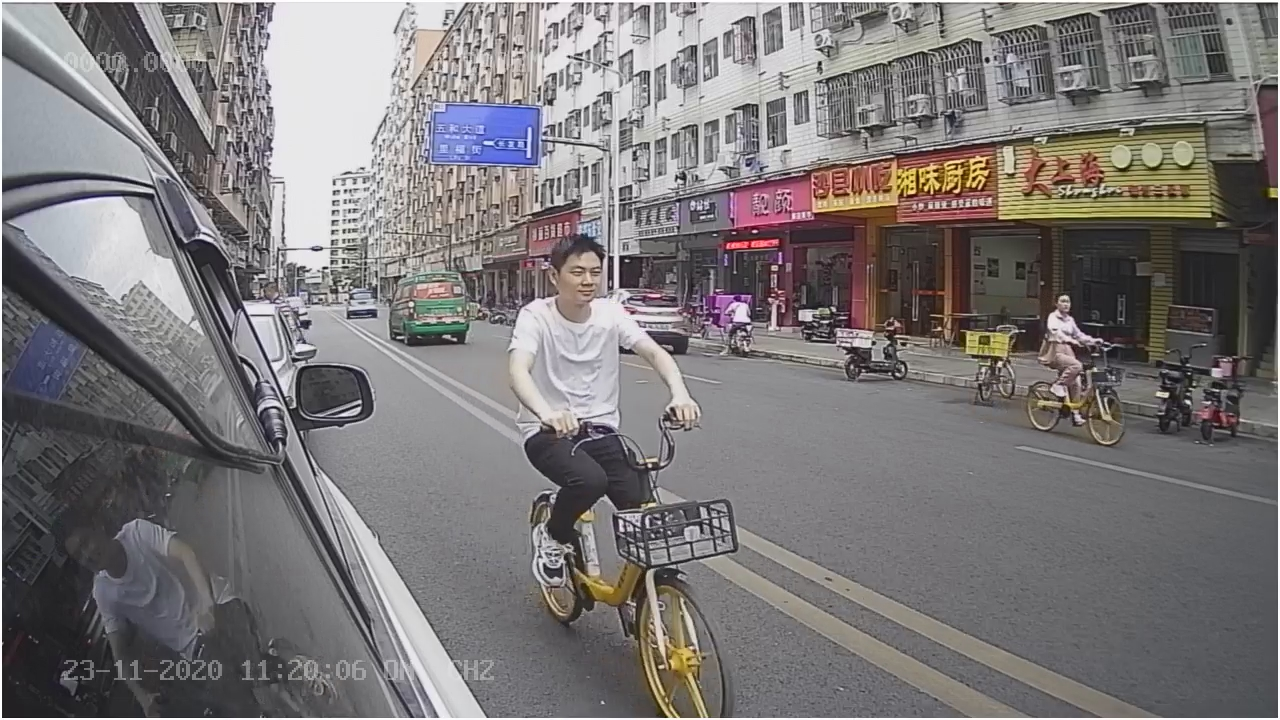person: (497, 226, 710, 436)
